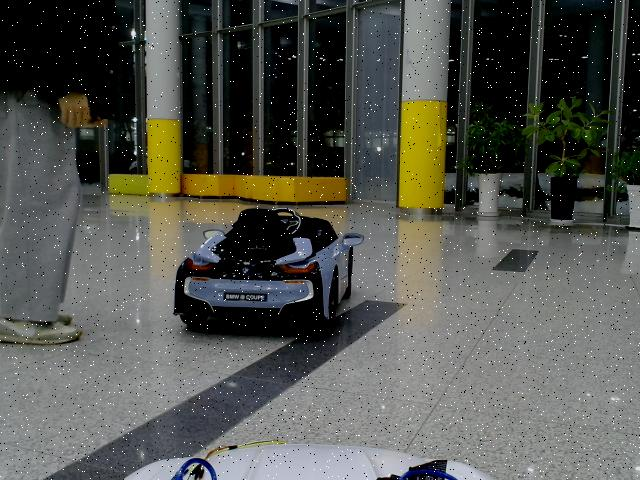car: (174, 208, 366, 331)
